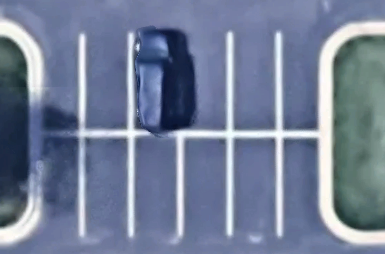Occupied: (131, 34, 179, 133)
Vacant: (178, 35, 230, 136), (229, 134, 280, 236), (179, 134, 230, 235), (81, 134, 131, 237), (228, 35, 279, 135), (131, 133, 180, 237), (34, 33, 83, 135), (82, 34, 132, 133), (33, 135, 81, 236), (278, 35, 323, 134), (279, 135, 323, 235)
